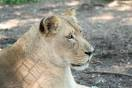lion: (4, 14, 95, 87)
